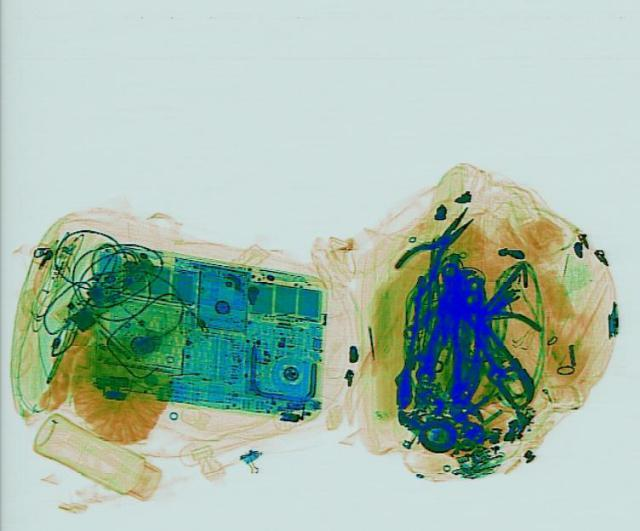Pliers: (382, 199, 492, 294)
